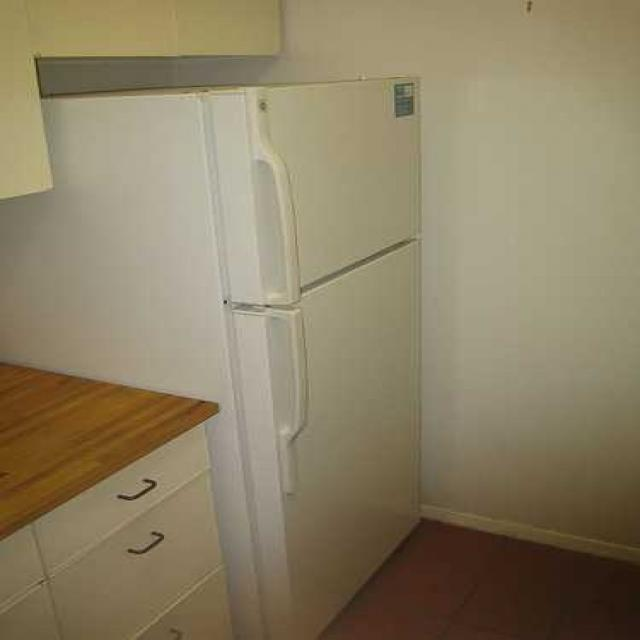refrigerator: (207, 75, 429, 640)
